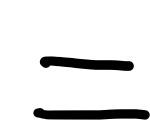eqv: (31, 51, 150, 122)
